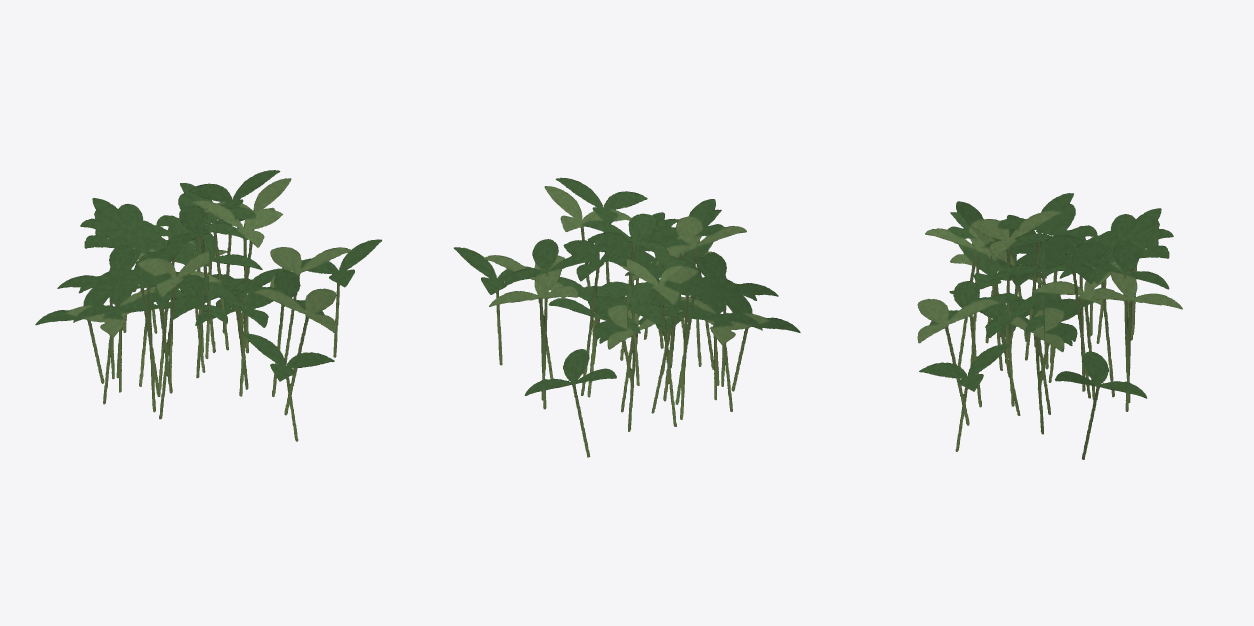
The model's file is v6_trifoliate_cards.glb.
The picture shows the model from 3 angles, left to right: view 1: azimuth 30°, elevation 25°; view 2: azimuth 150°, elevation 25°; view 3: azimuth 270°, elevation 25°; orthographic projection.
Parts seen in each view (by area): view 1: v6_trifoliate_cutout_surface; view 2: v6_trifoliate_cutout_surface; view 3: v6_trifoliate_cutout_surface.
Boxes of the visible parts, box(x1,y1,x2,y2) form: v6_trifoliate_cutout_surface: box(35, 170, 381, 441); v6_trifoliate_cutout_surface: box(454, 177, 800, 457); v6_trifoliate_cutout_surface: box(917, 193, 1182, 459).
Size of the model in its own units: 0.871 by 0.8928 by 0.7543.
Materials: 1 (1 with a texture image).
